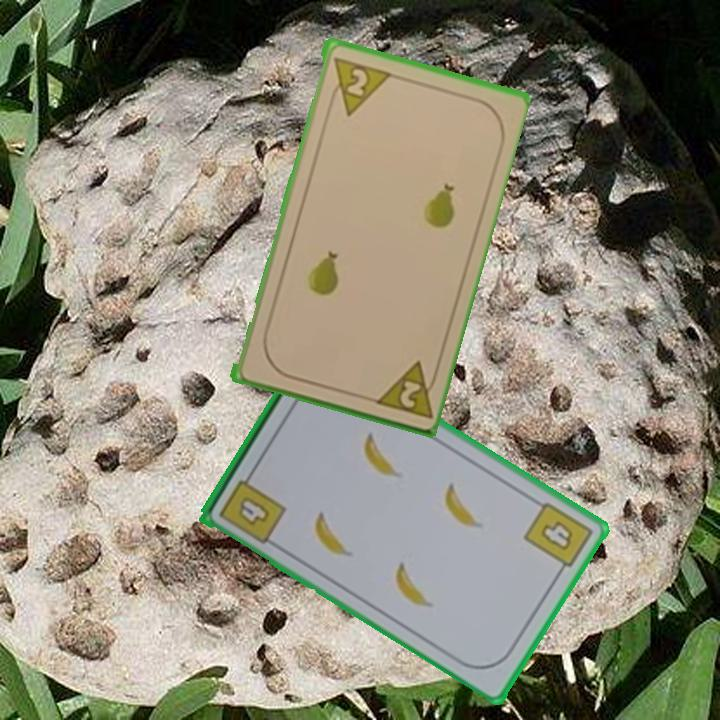2p: (368, 356, 442, 421), (326, 52, 391, 118)
4b: (520, 498, 596, 579), (215, 467, 289, 547)
